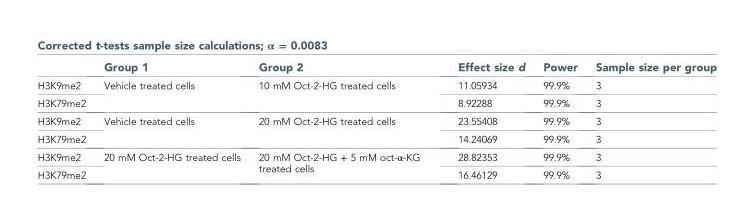table: (36, 37, 716, 180)
table column: (249, 37, 438, 180), (94, 37, 249, 180), (585, 37, 716, 180), (438, 37, 533, 180), (36, 37, 94, 180), (533, 37, 585, 180)
table column header: (36, 37, 716, 76)
table row: (36, 37, 716, 57), (36, 57, 716, 76), (36, 147, 716, 166), (36, 76, 716, 94), (36, 94, 716, 112), (36, 112, 716, 130), (36, 130, 716, 147), (36, 166, 716, 180)
table spanning cell: (36, 37, 716, 57), (249, 76, 438, 112), (249, 112, 438, 147), (249, 147, 438, 180), (94, 76, 249, 112), (94, 112, 249, 147), (94, 147, 249, 180)
